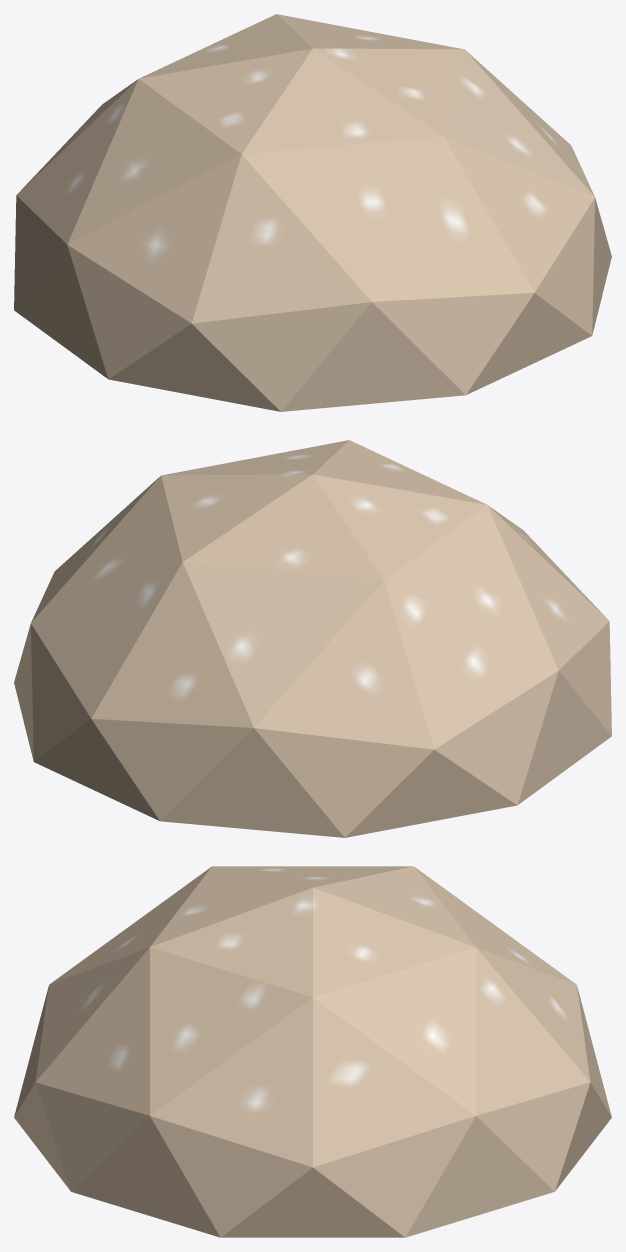
Rendered from burgerBun.fbx.
The picture shows the model from 3 angles, top to bottom: view 1: azimuth 30°, elevation 25°; view 2: azimuth 150°, elevation 25°; view 3: azimuth 270°, elevation 25°; orthographic projection. The views are drawn at different scales.
Visible parts, largest first — view 1: Icosphere; view 2: Icosphere; view 3: Icosphere.
Part boxes in pixels (x1,y1,x2,y2): Icosphere: [14, 14, 611, 411]; Icosphere: [14, 440, 611, 837]; Icosphere: [14, 866, 611, 1237].
Bounding box in the file's own units: 18.28 × 8.05 × 18.97.
